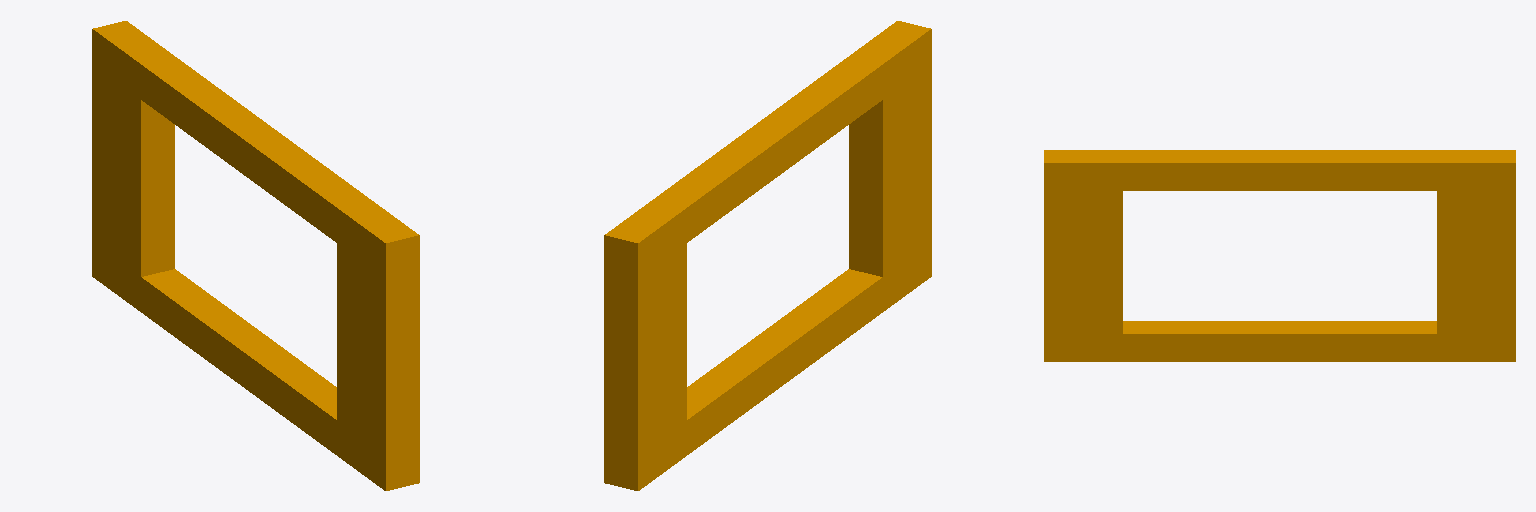
URDF robot description (gate):
<?xml version="1.0" ?>

<robot name="gate">

  <link name="base_link">

    <inertial>
      <origin rpy="0 0 0" xyz="0 0 0"/>
      <mass value="0."/>
      <inertia ixx="0" ixy="0.0" ixz="0.0" iyy="0" iyz="0.0" izz="0"/>
    </inertial>

    <visual>
      <origin rpy="0 0 0" xyz="0 0 0"/>
      <geometry>
        <mesh filename="./tinker.obj" scale=" 0.05 0.05 0.05"/>
      </geometry>
      <material name="grey">
        <color rgba="1.0. 1.0. 0.5. 1"/>
      </material>
    </visual>

    <collision concave="yes">
      <origin rpy="0 0 0" xyz="0 0 0"/>
      <geometry>
        <mesh filename="./tinker.obj" scale="0.05 0.05 0.05"/>
      </geometry>
    </collision>

  </link>

</robot>

--- What the picture shows (computed from the rendered views, not written in the file) ---
3 views of the same robot in one strip: view 1: azimuth 30°, elevation 25°; view 2: azimuth 150°, elevation 25°; view 3: azimuth 270°, elevation 25° (orthographic).
Model gate with 1 links and 0 joints (none), rooted at base_link, posed every joint at zero.
Visible links, largest first — view 1: base_link; view 2: base_link; view 3: base_link.
Boxes of the visible links, left/top/right/bottom form: base_link: left=92, top=21, right=419, bottom=490; base_link: left=604, top=21, right=931, bottom=490; base_link: left=1044, top=150, right=1515, bottom=361.
Size in the robot's own frame: 0.1 by 1.5 by 0.7 metres.
Meshes: 1 distinct files referenced, 1 mesh visuals loaded (1 OBJ).